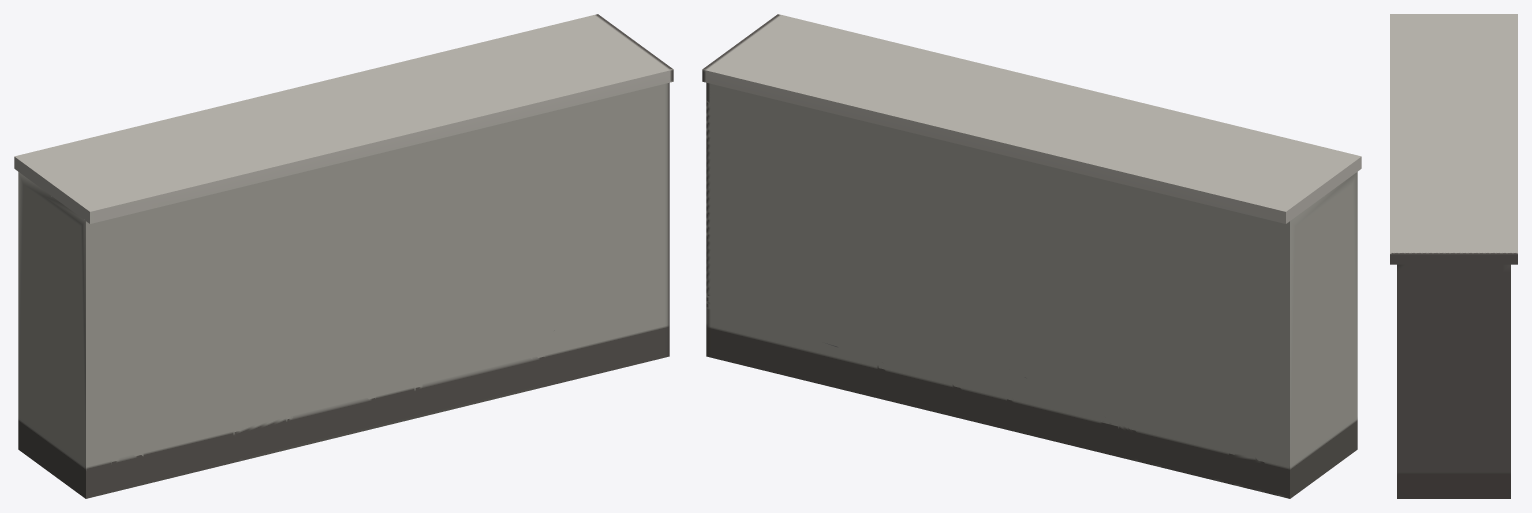
File: lan_can_ha_long.glb
3 renders of one model, left to right at view 1: azimuth 30°, elevation 25°; view 2: azimuth 150°, elevation 25°; view 3: azimuth 270°, elevation 25°, orthographic. The views are drawn at different scales.
Visible parts, largest first — view 1: drawing; view 2: drawing; view 3: drawing.
Part boxes in pixels (<box>): drawing: <box>14,14,673,498</box>; drawing: <box>702,14,1361,498</box>; drawing: <box>1390,14,1517,498</box>.
Size of the model in its own units: 2 by 0.95 by 0.45.
Materials: 1 (1 with a texture image).
